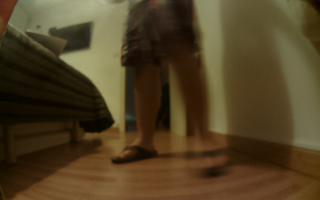person: (103, 1, 233, 179)
